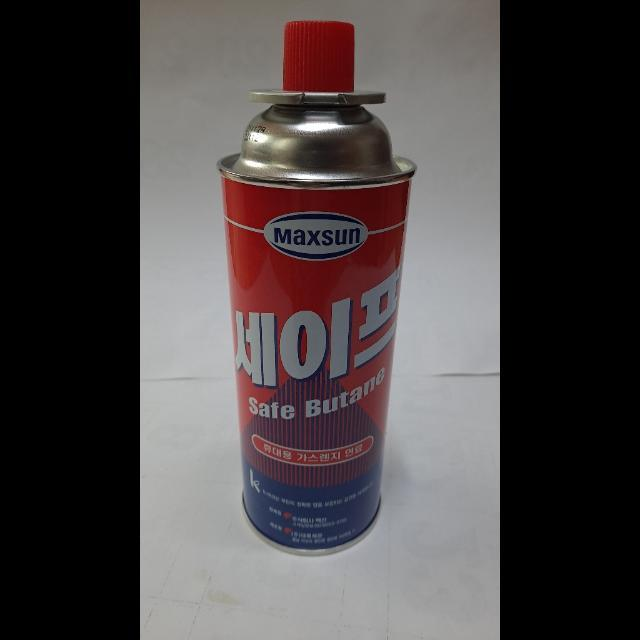chemical_spray_can: (206, 12, 422, 570)
